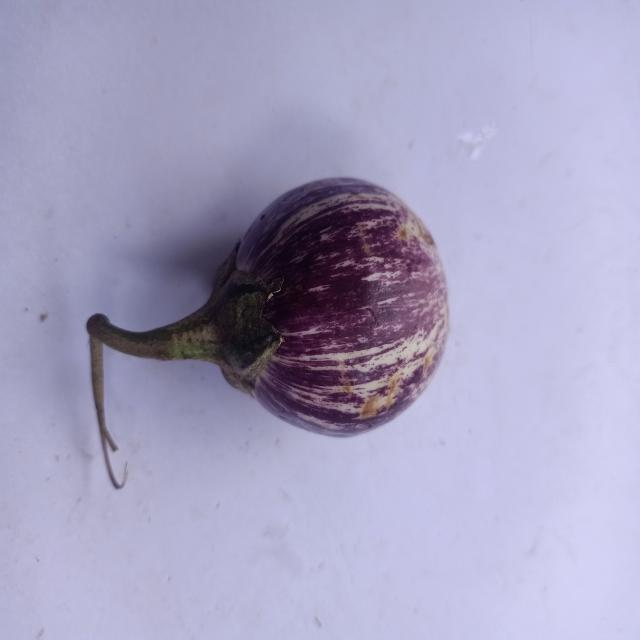Eggplant: (64, 164, 474, 506)
